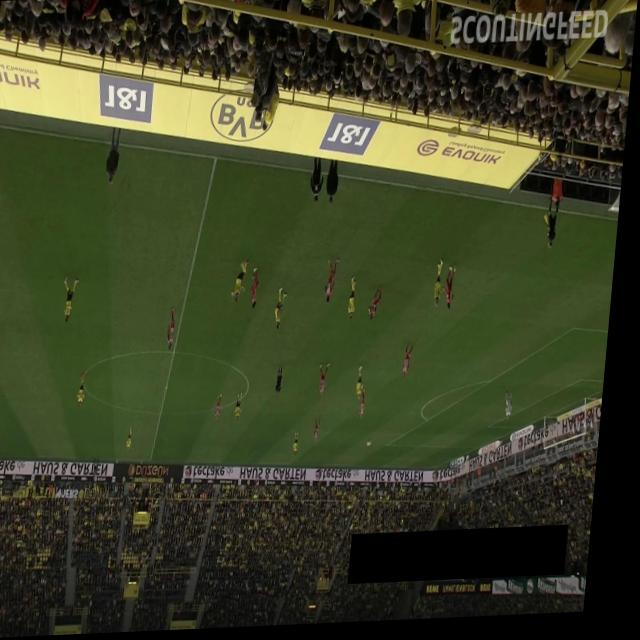player: (65, 275, 84, 324), (235, 261, 254, 305), (328, 260, 344, 305), (448, 268, 462, 314), (371, 289, 388, 323), (438, 262, 450, 310), (352, 279, 363, 323), (279, 288, 290, 331), (255, 269, 266, 311), (324, 365, 337, 400), (171, 309, 181, 351), (408, 345, 419, 382), (82, 374, 93, 408), (362, 369, 372, 403), (510, 395, 521, 425), (241, 393, 250, 424), (366, 390, 374, 422), (221, 395, 229, 422), (133, 428, 141, 453), (321, 419, 328, 445), (300, 434, 307, 458)
referee: (545, 202, 563, 253), (281, 367, 290, 399), (101, 459, 107, 480)
